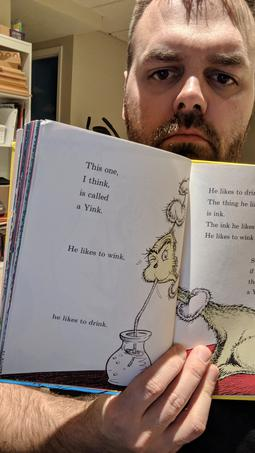text block: (73, 153, 126, 221), (198, 183, 255, 245), (62, 238, 132, 266), (47, 306, 111, 328), (239, 251, 255, 304)
